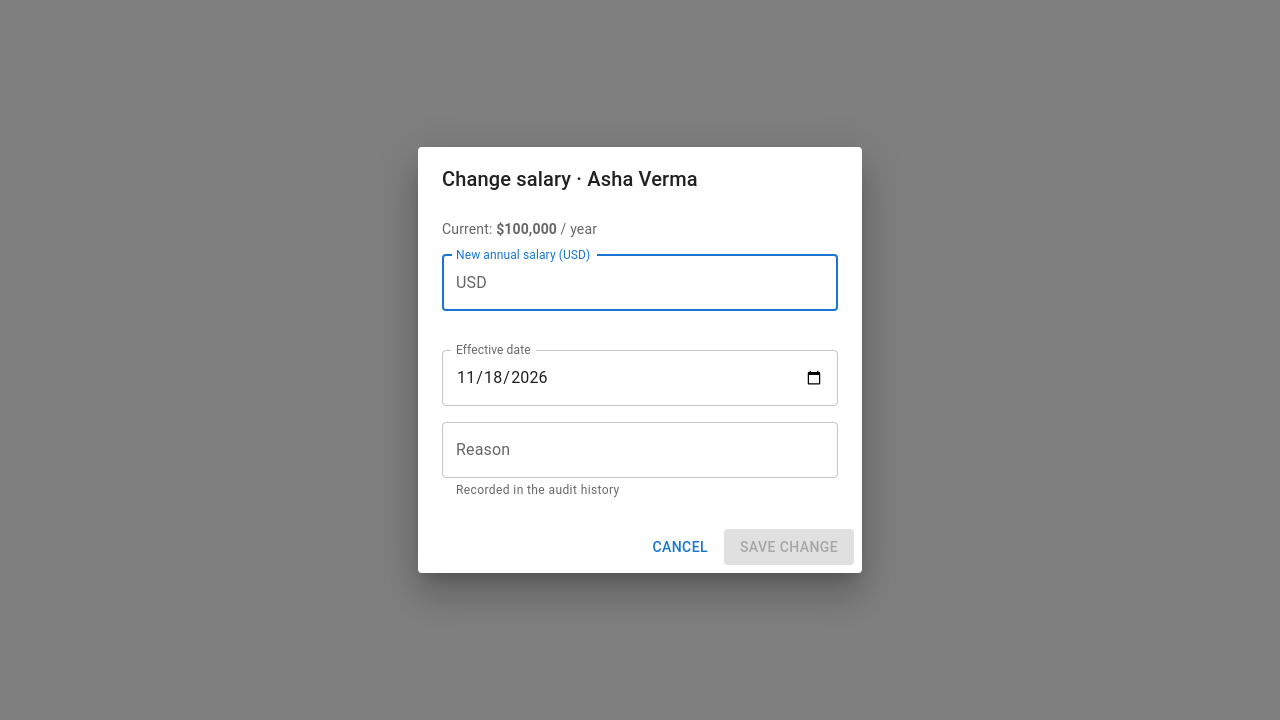
Test: SalaryChangeDialog › keeps Save disabled until there is a different salary AND a reason
Expected: the button "Save change" is disabled, [724, 529, 854, 565]
Type "100000" into the field labelled "New annual salary (USD)" at (666, 283), box [495, 255, 838, 311]
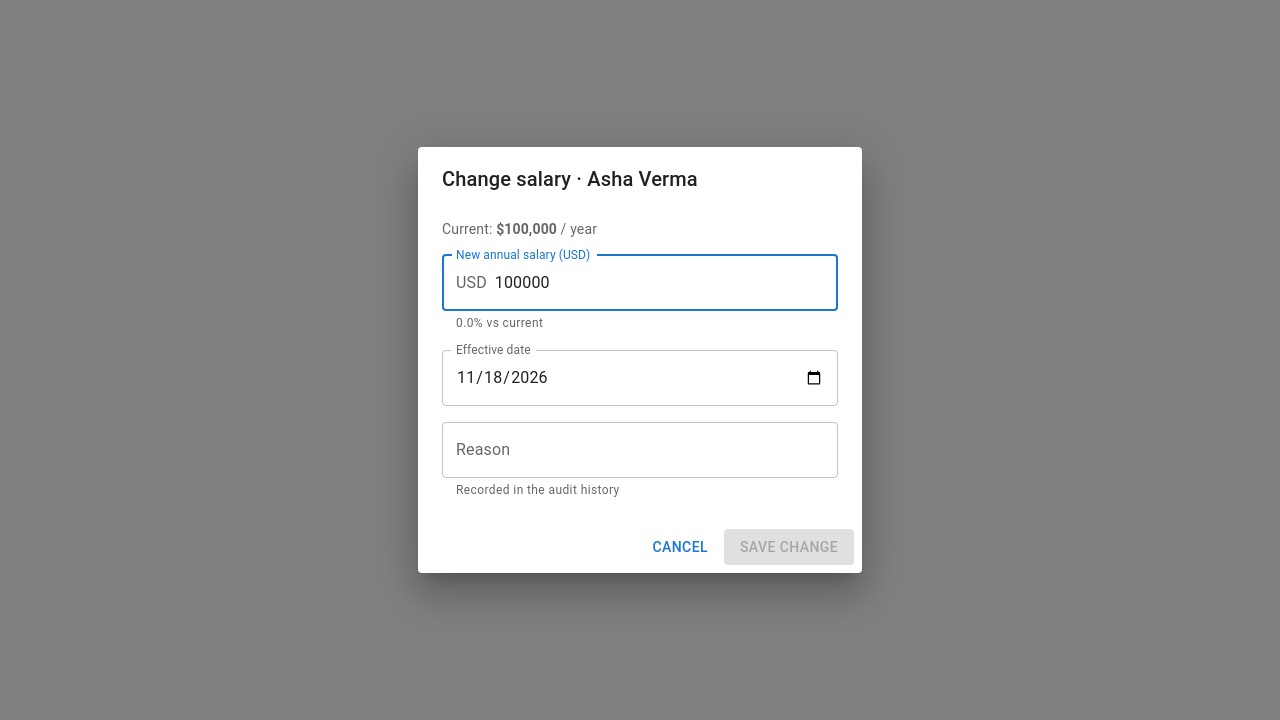
Type "Annual review" into the field labelled "Reason" at (640, 450), box [442, 422, 838, 478]
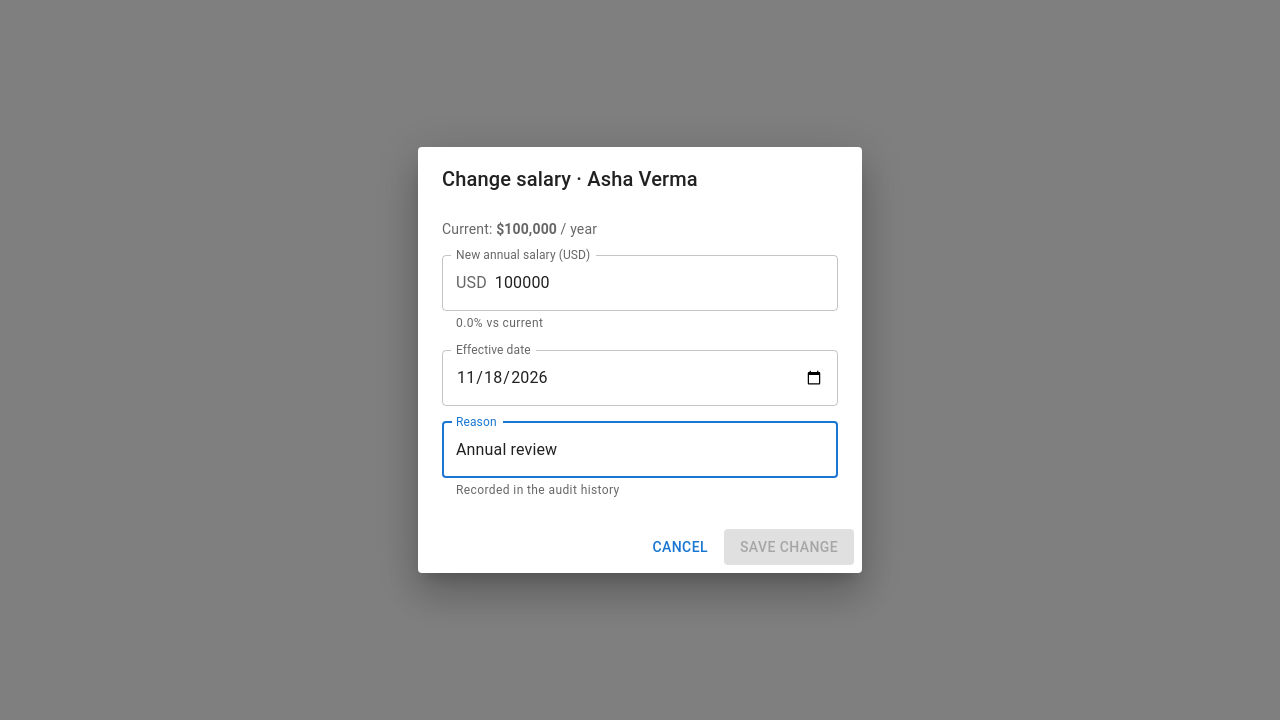
Expected: the button "Save change" is disabled, [724, 529, 854, 565]
Replace the text in the field labelled "New annual salary (USD)" with "110000" at (666, 283), box [495, 255, 838, 311]
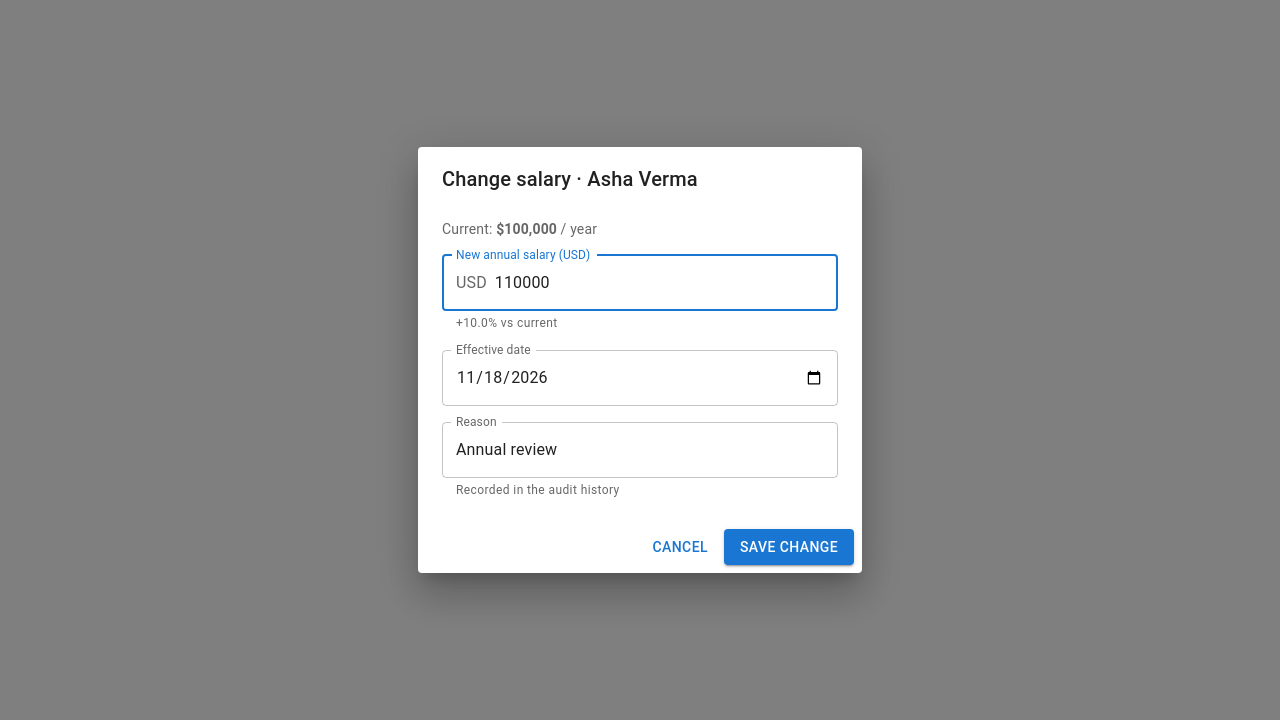
Expected: the button "Save change" is enabled, [724, 529, 854, 565]
